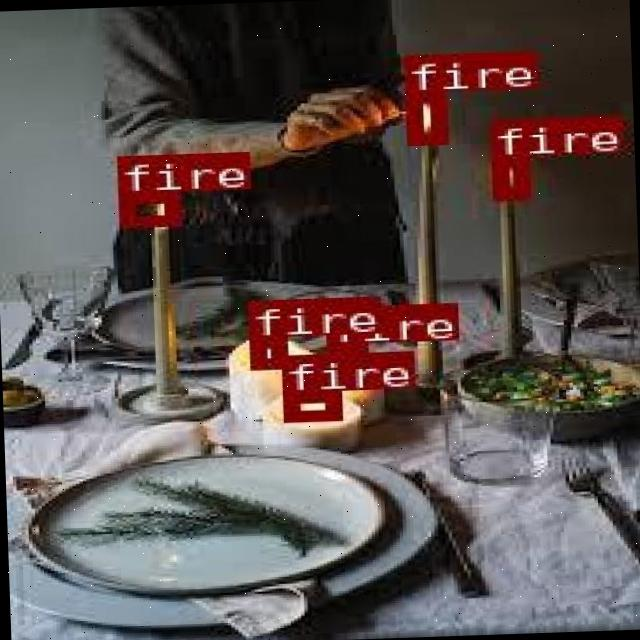fire: (403, 90, 445, 142), (116, 189, 178, 224), (280, 388, 336, 418), (488, 155, 526, 198), (325, 342, 364, 372), (248, 336, 284, 368)
